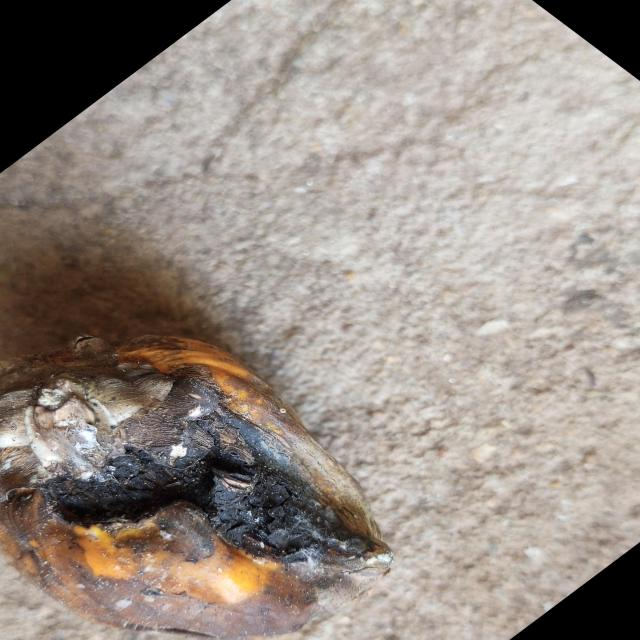damaged: (0, 294, 393, 640)
